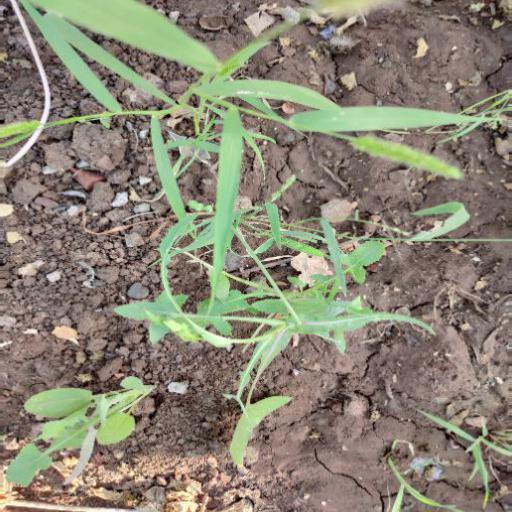weed: (1, 97, 402, 512)
